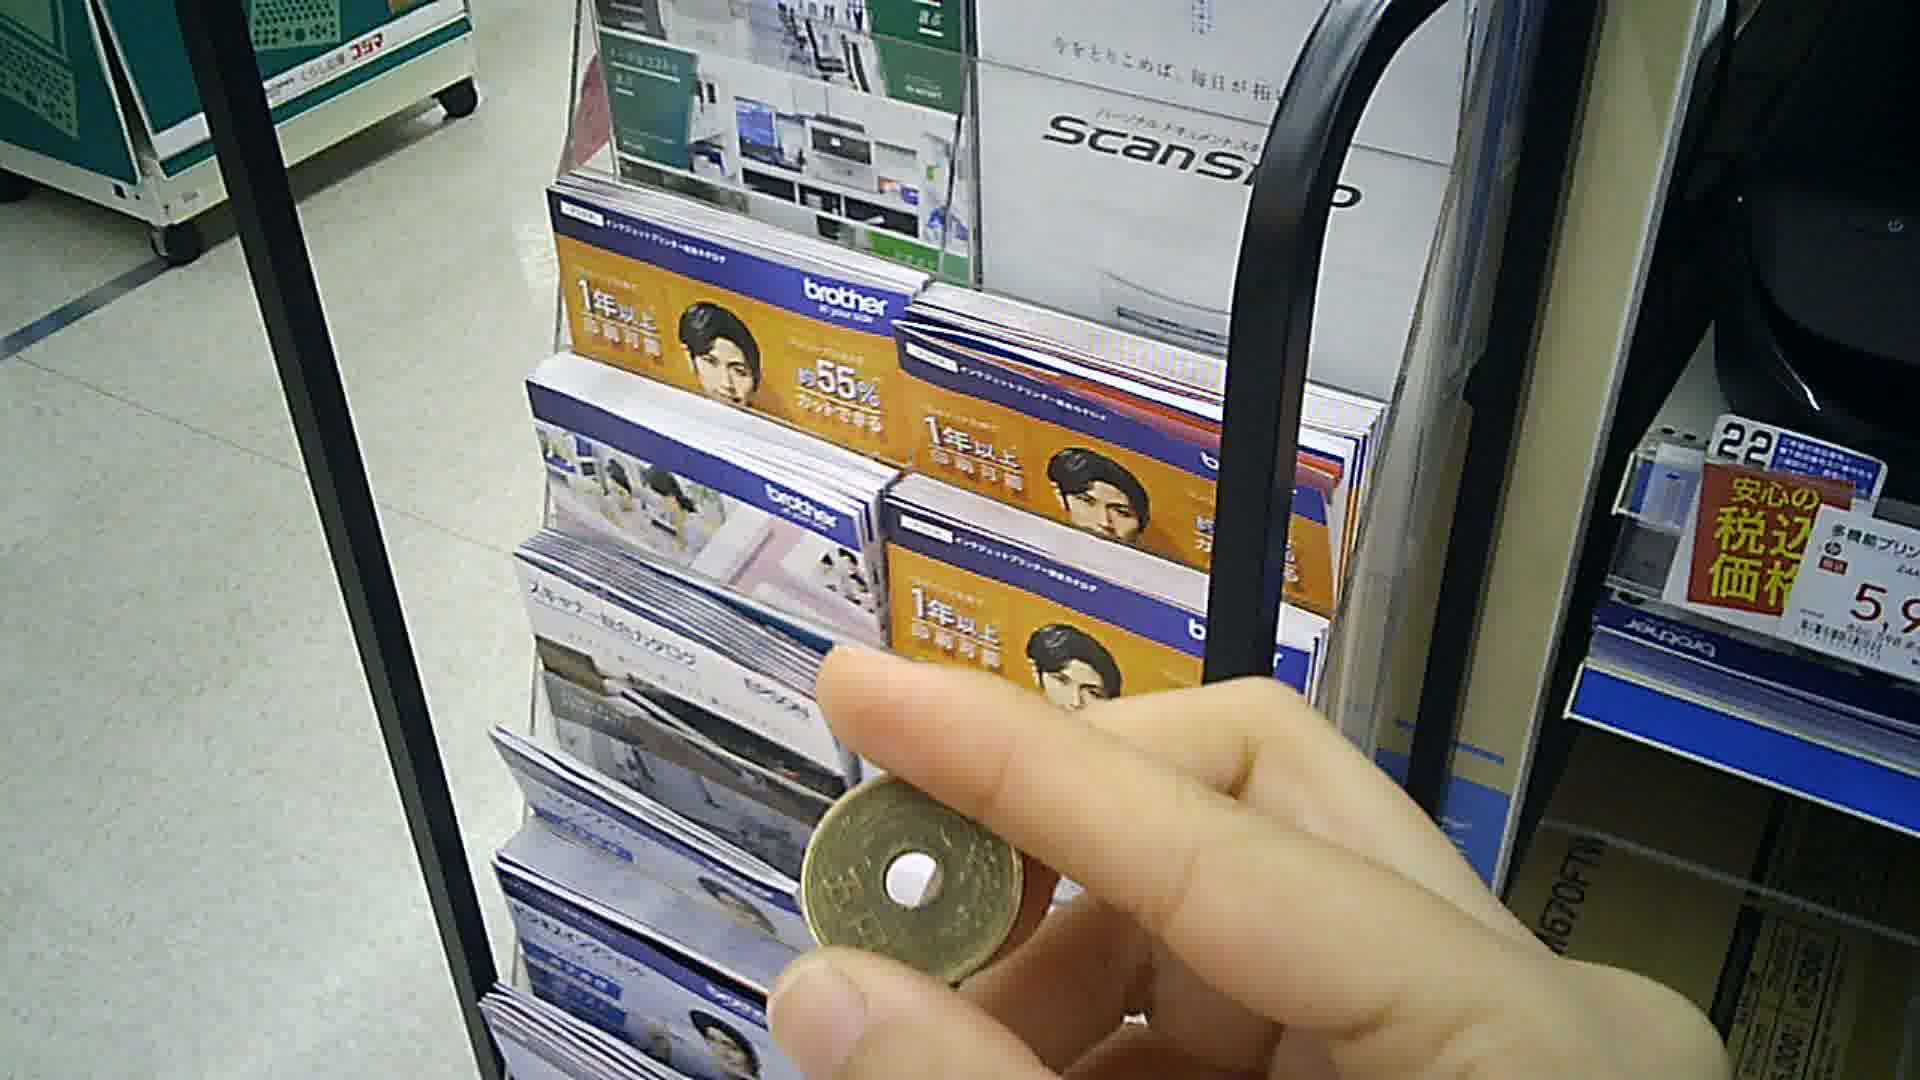5 Yen: (796, 764, 1033, 984)
